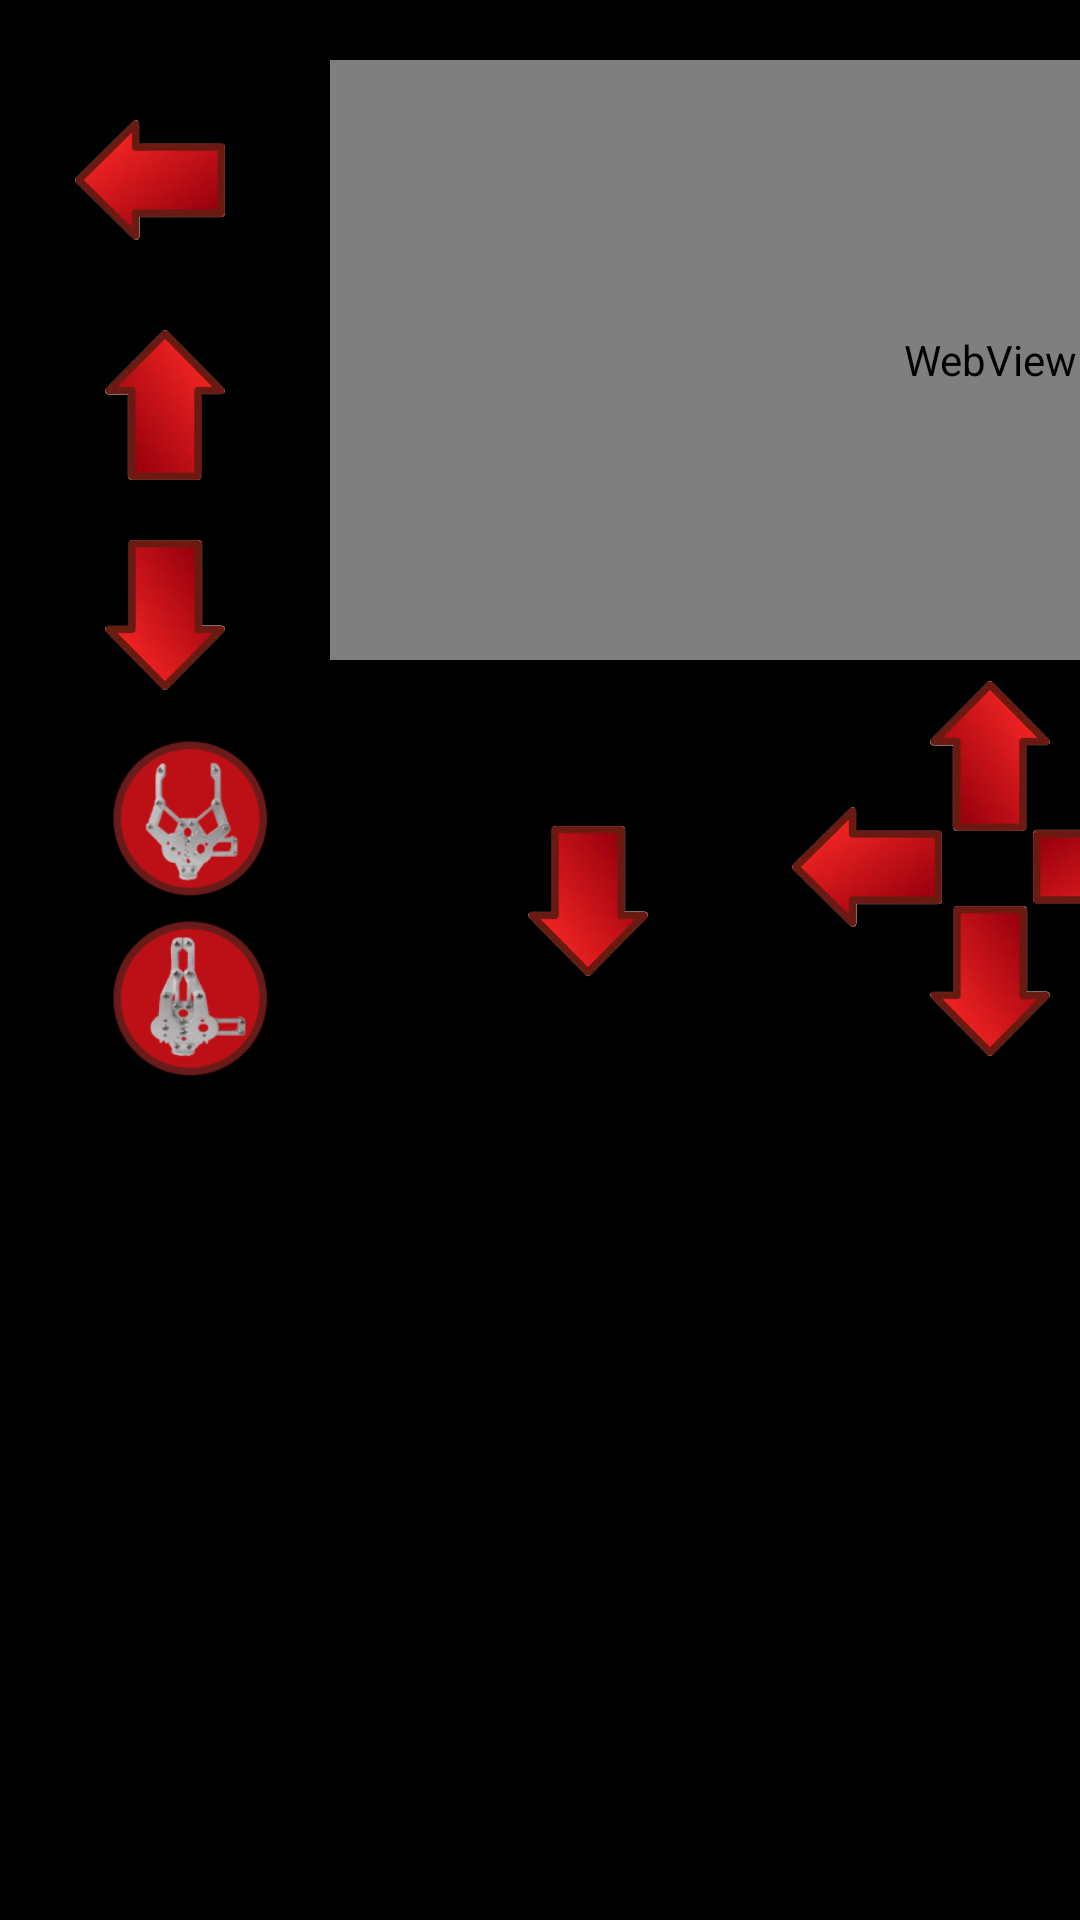

Locate icon controls on the screen. Image size 1080*1920, boxes as {"left": x1, "top": y1, "right": x2, "bottom": y2}.
arrowdown: {"left": 105, "top": 540, "right": 225, "bottom": 690}, {"left": 528, "top": 826, "right": 648, "bottom": 976}, {"left": 930, "top": 906, "right": 1050, "bottom": 1056}
arrowleft: {"left": 75, "top": 120, "right": 225, "bottom": 240}, {"left": 792, "top": 807, "right": 942, "bottom": 927}
arrowup: {"left": 105, "top": 330, "right": 225, "bottom": 480}, {"left": 930, "top": 681, "right": 1050, "bottom": 831}
clawclose: {"left": 113, "top": 921, "right": 267, "bottom": 1076}
clawopen: {"left": 113, "top": 741, "right": 267, "bottom": 896}
